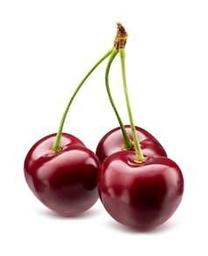cherry: (97, 149, 184, 228), (24, 132, 102, 217), (97, 124, 167, 181)
